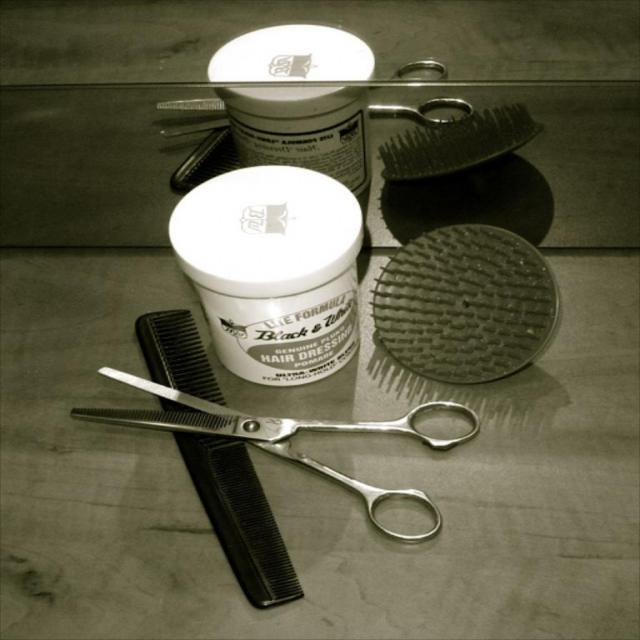scissor: (78, 344, 464, 576), (149, 54, 480, 128)
